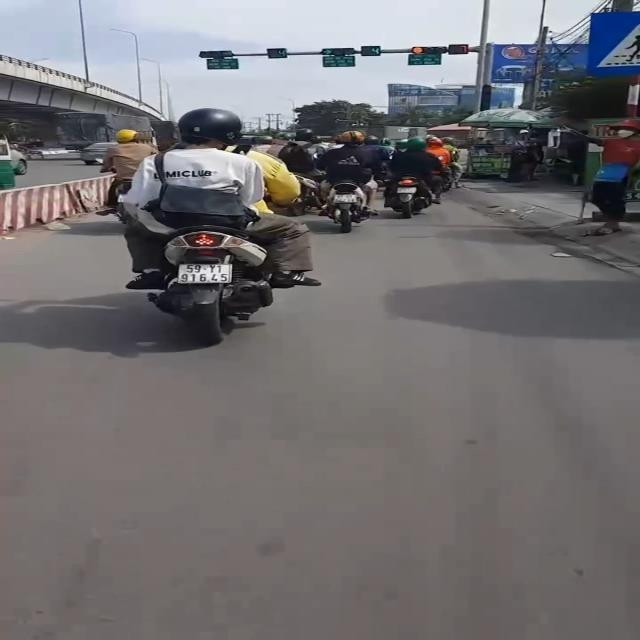224-duong-nguoi-di-bo-cat-ngang: (586, 10, 640, 70)
